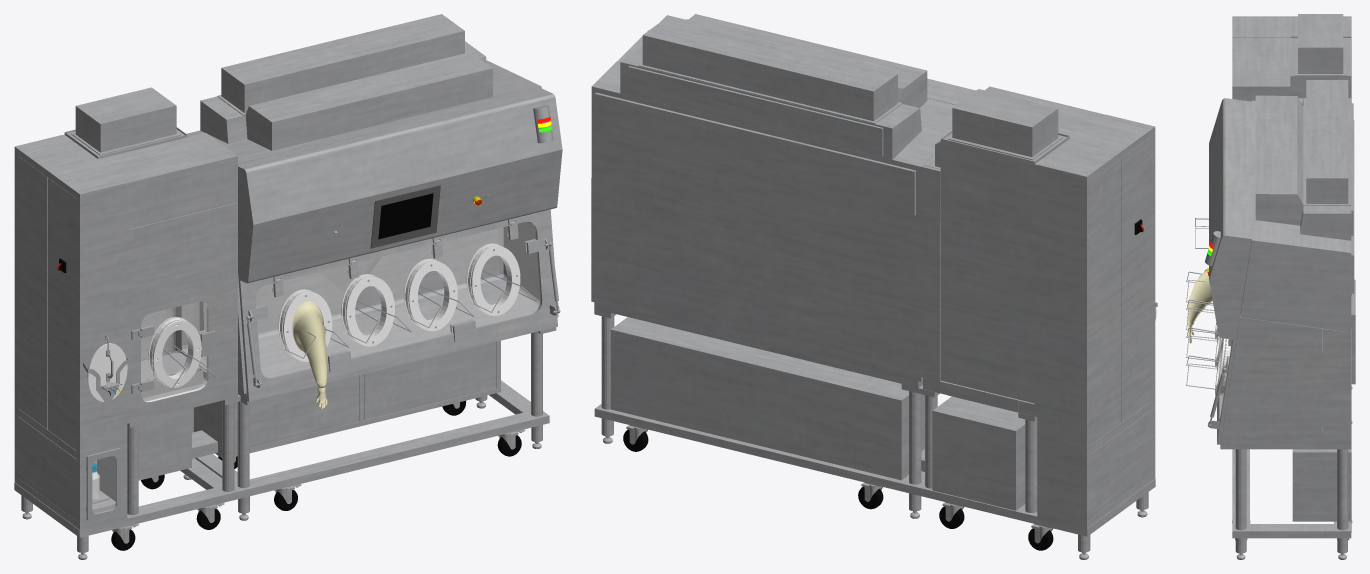
File: GPPI Scene complete setup_09262025.fbx
3 views of the same model, side by side, from view 1: azimuth 30°, elevation 25°; view 2: azimuth 150°, elevation 25°; view 3: azimuth 270°, elevation 25° (orthographic). The views are drawn at different scales.
Visible parts, largest first — view 1: Pass Chamber_Outer Carcass, main chamber glass, Main Chamber_Glove Front, Pass Chamber_Glass, glove demonstration, Main Chamber_Hinges Movable, Pass Chamber_Glove Front, HMI_screen, Glove Leak Tester, HMI_Frame, Main Chamber_Glove Front.001, h202 glass (+4 smaller); view 2: Pass Chamber_Outer Carcass; view 3: Pass Chamber_Outer Carcass, glove demonstration, Main Chamber_Glove Extenders, Main Chamber_Glove Front.
Part boxes in pixels (x1=…): Pass Chamber_Outer Carcass: x1=14, y1=14, x2=562, y2=559; main chamber glass: x1=256, y1=222, x2=540, y2=377; Main Chamber_Glove Front: x1=341, y1=243, x2=520, y2=346; Pass Chamber_Glass: x1=141, y1=302, x2=207, y2=401; glove demonstration: x1=292, y1=301, x2=327, y2=408; Main Chamber_Hinges Movable: x1=248, y1=221, x2=549, y2=371; Pass Chamber_Glove Front: x1=148, y1=317, x2=201, y2=387; HMI_screen: x1=378, y1=193, x2=433, y2=239; Glove Leak Tester: x1=87, y1=336, x2=127, y2=401; HMI_Frame: x1=370, y1=185, x2=440, y2=248; Main Chamber_Glove Front.001: x1=281, y1=290, x2=332, y2=361; h202 glass: x1=92, y1=456, x2=116, y2=513; Pass Chamber_Outer Carcass: x1=591, y1=14, x2=1157, y2=559; Pass Chamber_Outer Carcass: x1=1205, y1=14, x2=1355, y2=559; glove demonstration: x1=1187, y1=269, x2=1212, y2=343; Main Chamber_Glove Extenders: x1=1186, y1=299, x2=1226, y2=389; Main Chamber_Glove Front: x1=1215, y1=323, x2=1230, y2=396.
Bounding box in the file's own units: 363 × 290 × 122.
